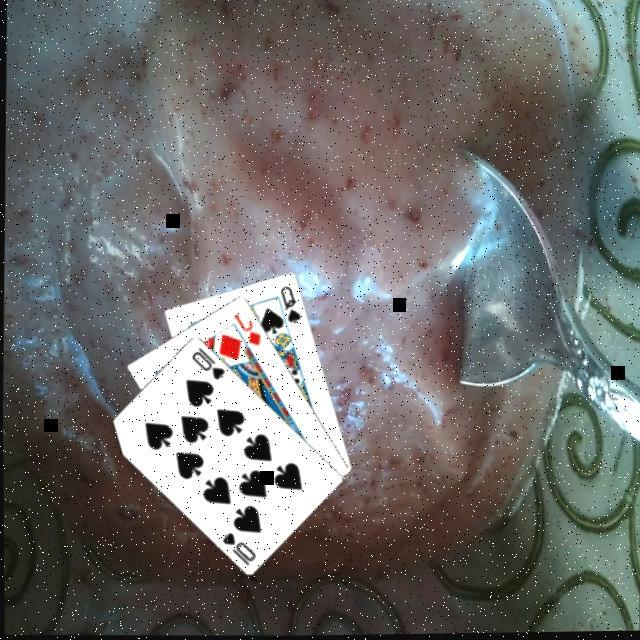10S: (215, 530, 256, 569), (186, 344, 224, 384)
JD: (228, 310, 262, 350)
QS: (274, 284, 301, 328)
